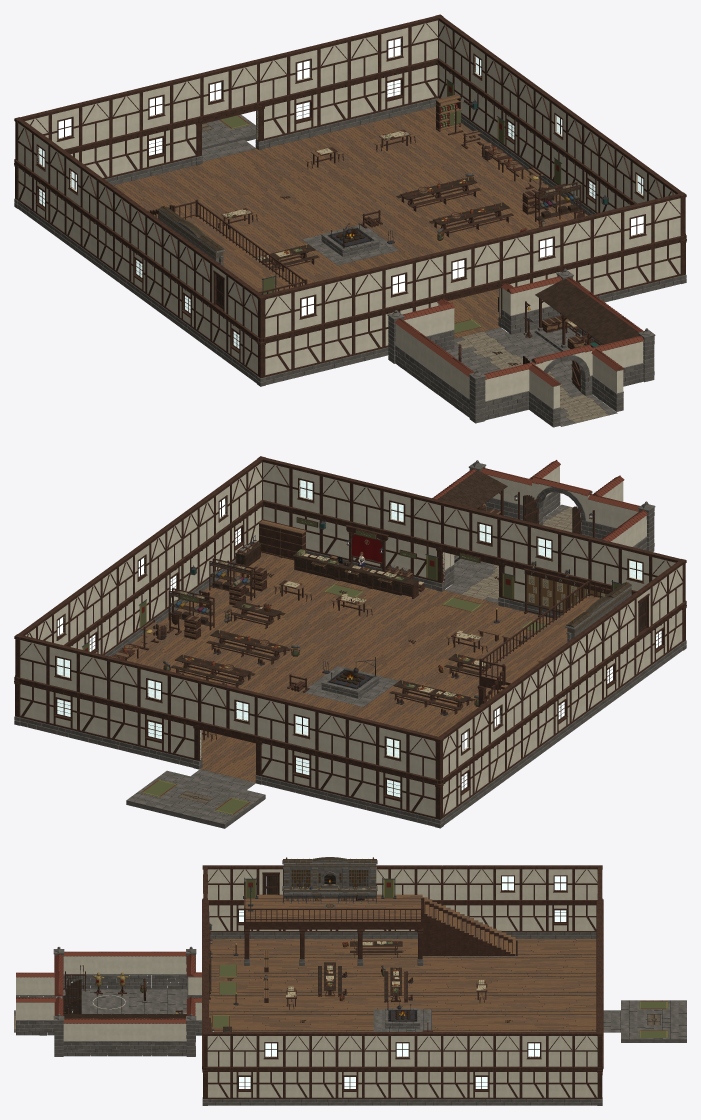
Rendered from guild-v011.glb.
3 views of the same model, one above another, from view 1: azimuth 30°, elevation 25°; view 2: azimuth 150°, elevation 25°; view 3: azimuth 270°, elevation 25° (orthographic). The views are drawn at different scales.
Visible parts, largest first — view 1: Wall-South-West, Wall-North-East, Wall-North-West, Wall-South-East, YD01_Wall_4m (×5), Wall-East-2, Wall-East-1, Wall-East-3, Wall-West-2, Wall-West-1, YD02_Wall_3m (×4), Wall-West-3 (+39 smaller); view 2: Wall-South-East, Wall-South-West, Wall-North-West, Wall-North-East, Wall-East-2, Wall-East-3, Wall-East-1, Wall-West-2, Wall-West-3, Wall-West-1, Floor-Hall-v010-18, Floor-Hall-v010-19 (+45 smaller); view 3: Wall-West-2, Wall-West-1, Wall-West-3, Wall-East-1, YD02_Wall_3m (×6), Gallery-Deck-v009, Wall-East-3, YD01_Wall_4m (×2), Wall-East-2, MM03_MemorialWall_r2, Stairs-Dressing-v009, Floor-Hall-v010-22 (+41 smaller).
Boxes of the visible parts, box(x1,y1,x2,y2) form: Wall-South-West: box(255, 14, 443, 149); Wall-North-East: box(257, 251, 445, 386); Wall-North-West: box(498, 192, 686, 327); Wall-South-East: box(14, 73, 202, 208); YD01_Wall_4m (×5): box(402, 276, 644, 420); Wall-East-2: box(96, 177, 182, 325); Wall-East-1: box(15, 118, 101, 266); Wall-East-3: box(177, 237, 262, 383); Wall-West-2: box(516, 75, 602, 215); Wall-West-1: box(437, 17, 521, 162); YD02_Wall_3m (×4): box(394, 318, 624, 427); Wall-West-3: box(597, 134, 685, 234); Wall-South-East: box(255, 693, 443, 828); Wall-South-West: box(14, 634, 202, 769); Wall-North-West: box(257, 456, 445, 591); Wall-North-East: box(498, 515, 686, 650); Wall-East-2: box(518, 619, 604, 767); Wall-East-3: box(599, 561, 685, 707); Wall-East-1: box(438, 678, 523, 824); Wall-West-2: box(98, 516, 184, 656); Wall-West-3: box(179, 457, 263, 603); Wall-West-1: box(15, 576, 103, 675); Floor-Hall-v010-18: box(282, 614, 422, 672); Floor-Hall-v010-19: box(324, 593, 469, 646); Wall-West-2: box(337, 1032, 468, 1105); Wall-West-1: box(468, 1032, 599, 1105); Wall-West-3: box(205, 1032, 336, 1105); Wall-East-1: box(468, 865, 597, 938); YD02_Wall_3m (×6): box(16, 951, 186, 1056); Gallery-Deck-v009: box(244, 894, 422, 929); Wall-East-3: box(207, 865, 336, 938); YD01_Wall_4m (×2): box(98, 951, 151, 1056); Wall-East-2: box(337, 865, 468, 938); MM03_MemorialWall_r2: box(282, 857, 377, 900); Stairs-Dressing-v009: box(422, 897, 517, 955); Floor-Hall-v010-22: box(475, 992, 587, 1021).
Bounding box in the file's own units: 30.38 × 7.11 × 50.9.
63 materials, 38 textured.
